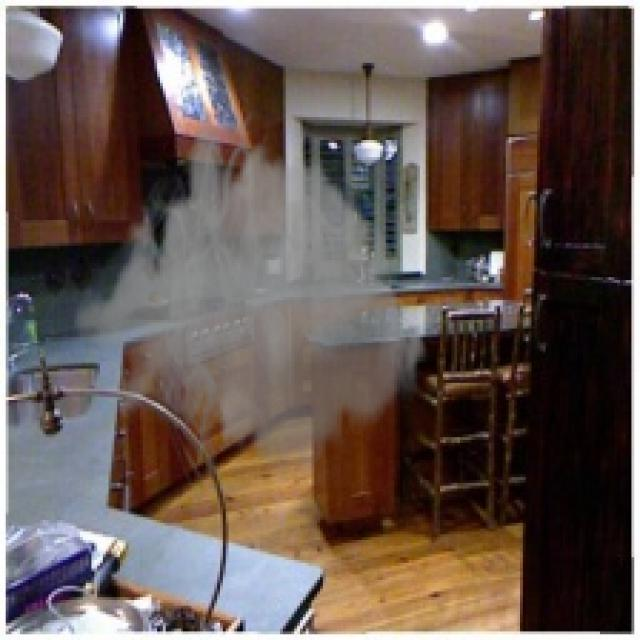Smoke: (71, 106, 428, 512)
